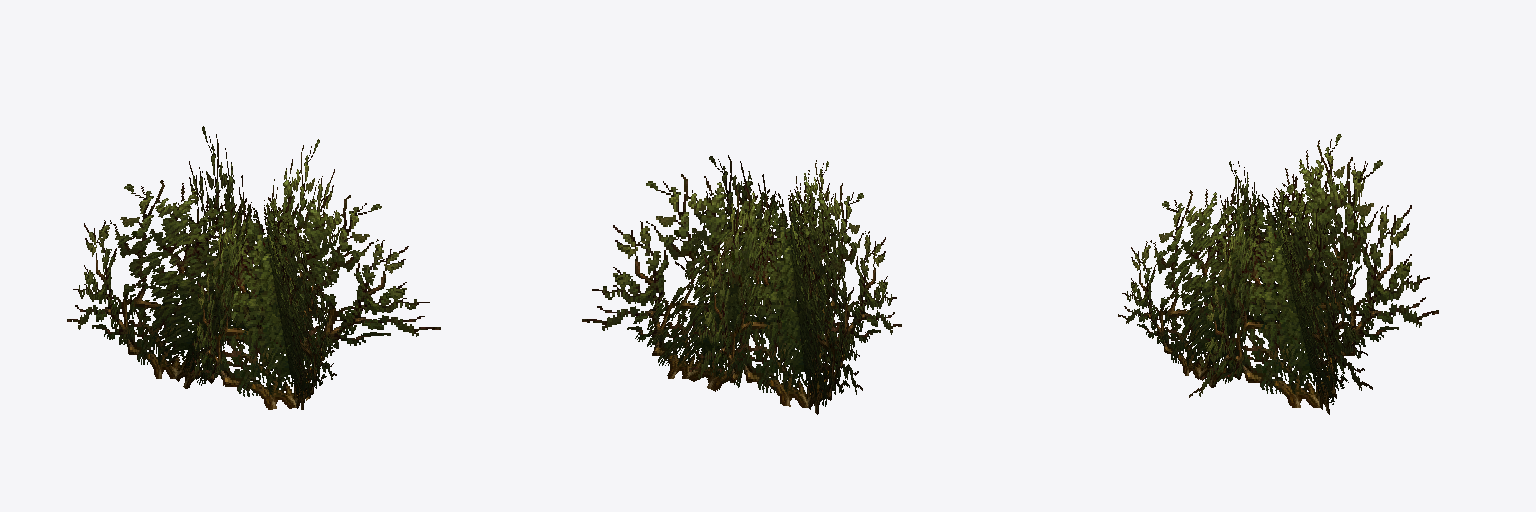
The picture shows the model from 3 angles: view 1: azimuth 30°, elevation 25°; view 2: azimuth 150°, elevation 25°; view 3: azimuth 270°, elevation 25°; orthographic projection.
Parts seen in each view (by area): view 1: object 1; view 2: object 1; view 3: object 1.
Boxes of the visible parts, x1,y1,x2,y2 form: object 1: [67, 126, 440, 409]; object 1: [582, 155, 901, 414]; object 1: [1118, 134, 1438, 414].
Bounding box in the file's own units: 4.01 × 3.26 × 3.96.
1 materials, 1 textured.